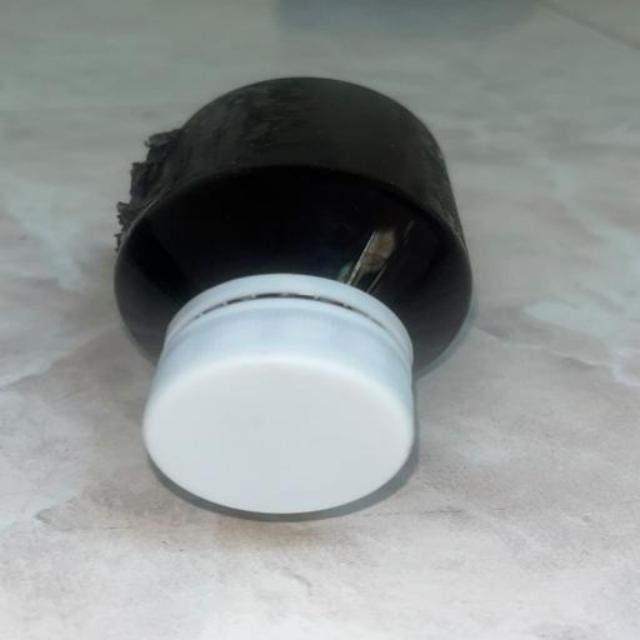HDPE: (62, 24, 541, 576)
